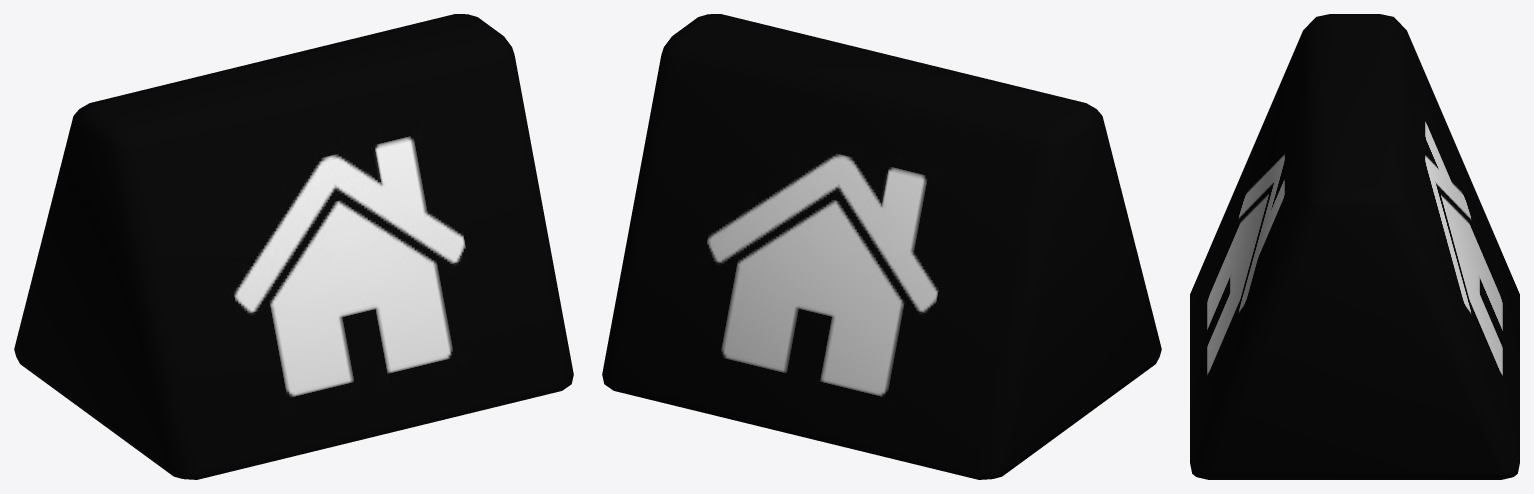
Rendered from homepage.glb.
The picture shows the model from 3 angles, left to right: view 1: azimuth 30°, elevation 25°; view 2: azimuth 150°, elevation 25°; view 3: azimuth 270°, elevation 25°; orthographic projection. The views are drawn at different scales.
Visible parts, largest first — view 1: Cube; view 2: Cube; view 3: Cube.
Part boxes in pixels (x1,y1,x2,y2): Cube: (14, 14, 573, 479); Cube: (602, 14, 1161, 479); Cube: (1190, 14, 1519, 479).
Size of what is drawn, in the model's own units: 0.7242 by 0.5233 by 0.5357.
Materials: 1 (1 with a texture image).
